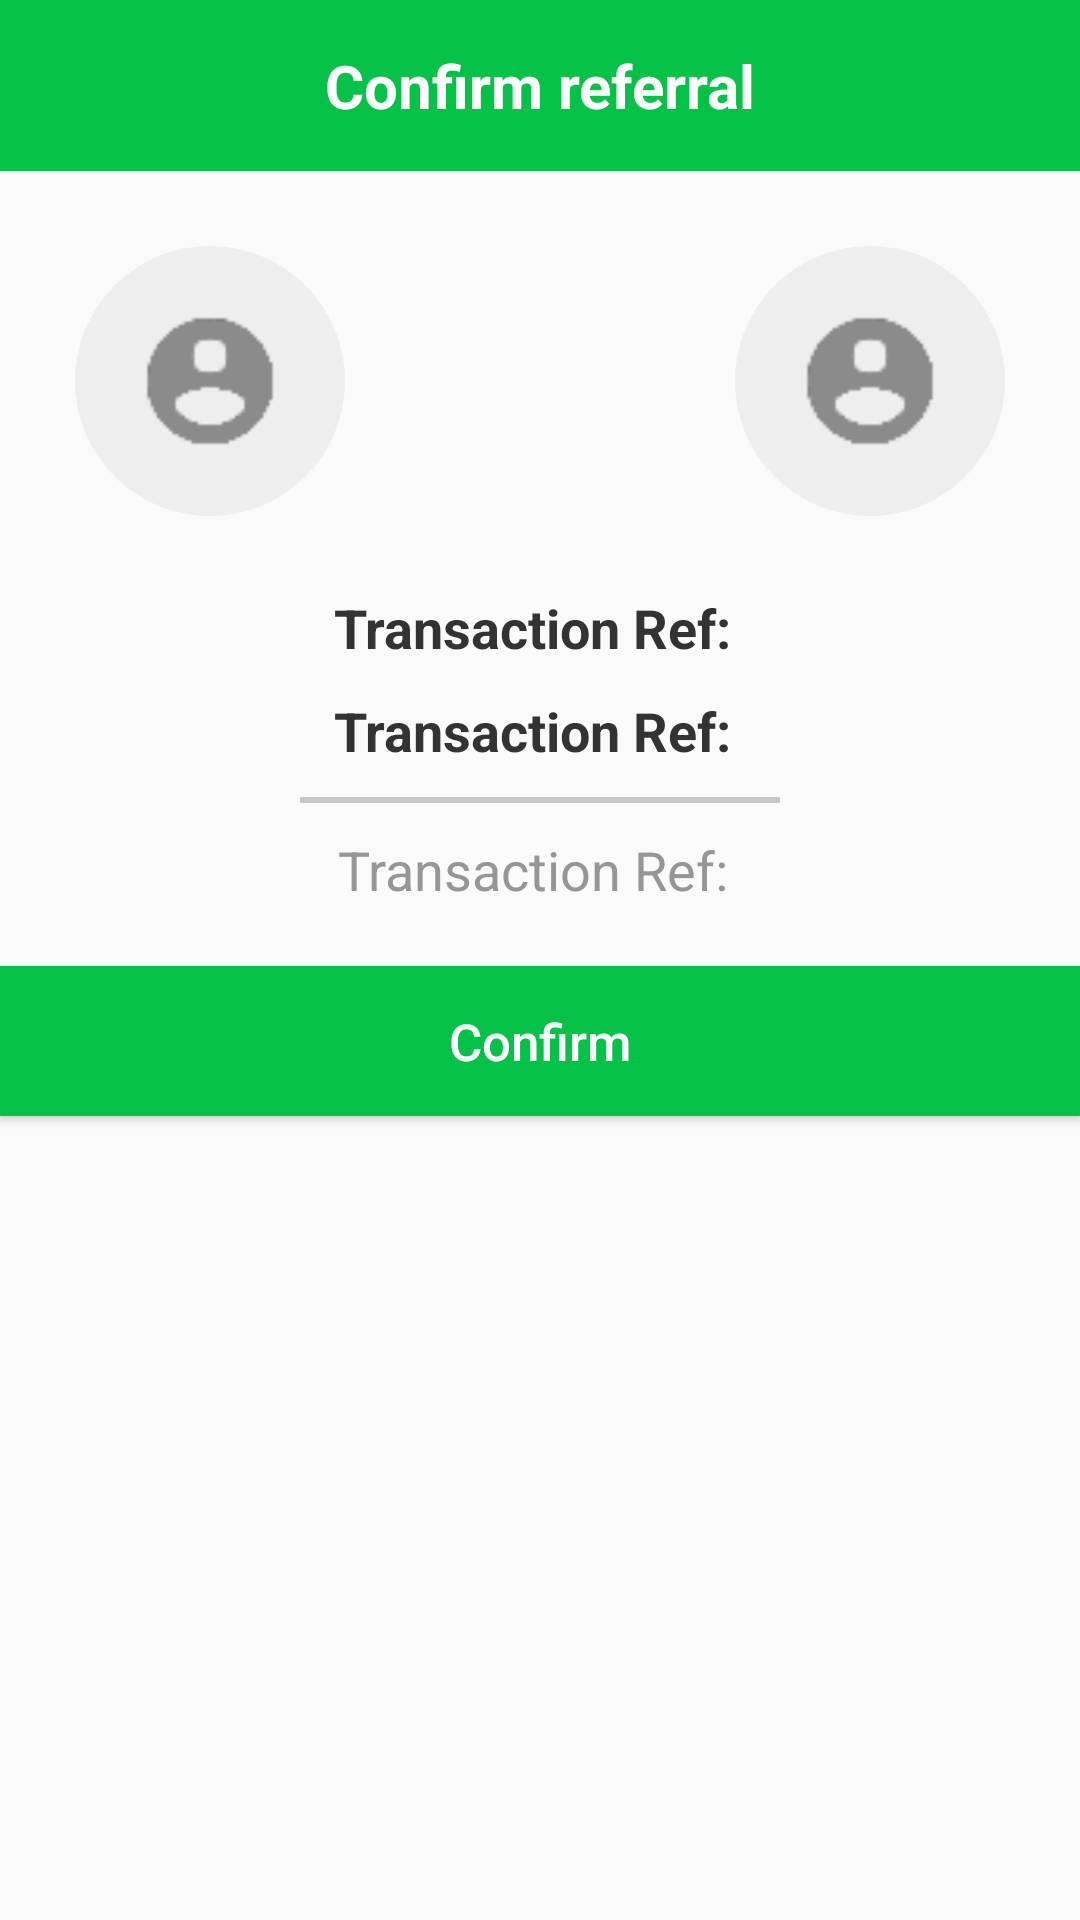

Icons on this 1080 × 1920 Android screen, each with its box as box=[x1, y1, x2, y2]:
profile name: box=[147, 318, 273, 444], box=[807, 318, 933, 444]
